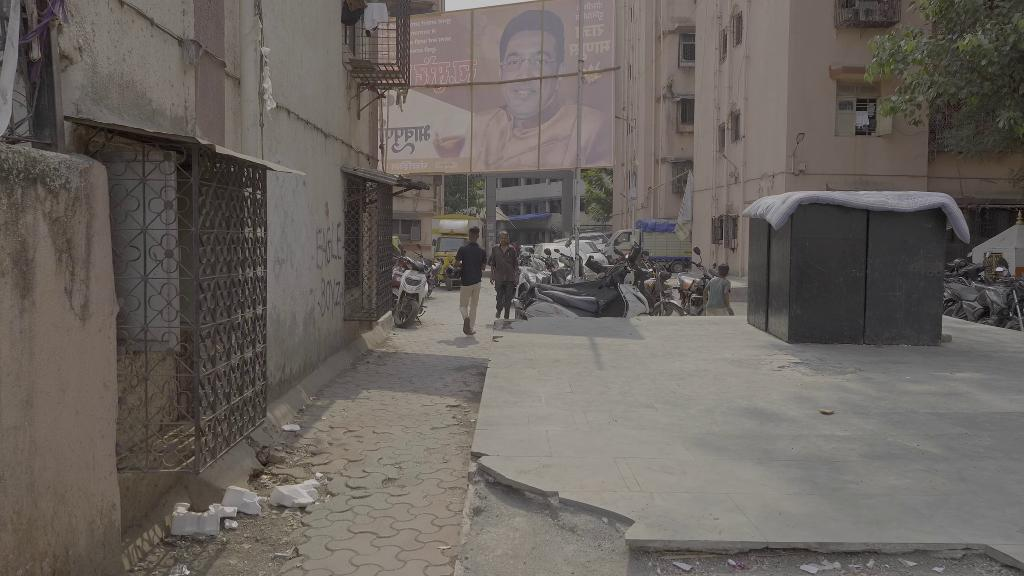garbage: (172, 500, 237, 536), (272, 477, 324, 511), (220, 481, 265, 519)
